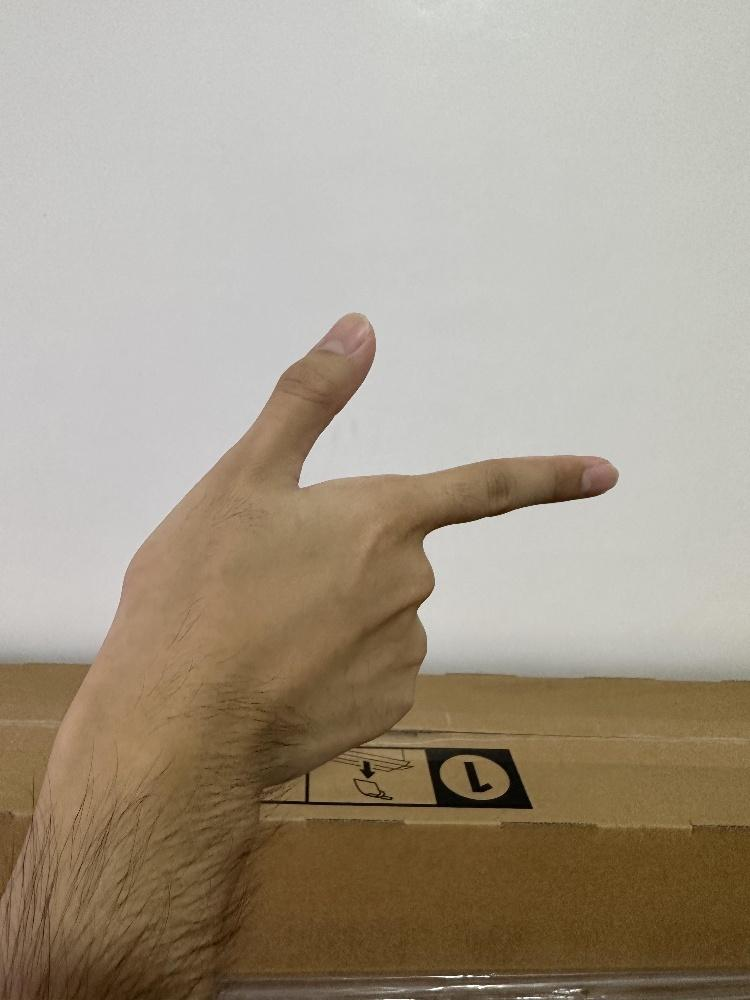g: (122, 308, 621, 787)
